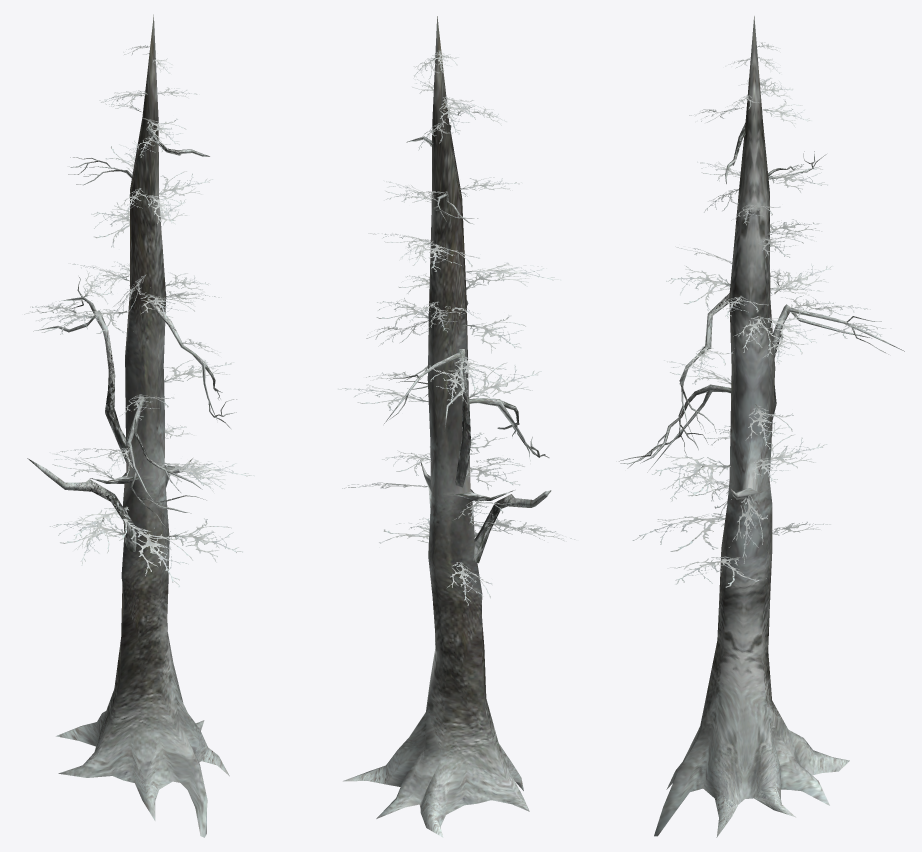
Rendered from S_Tree_White003.FBX.
3 renders of one model, left to right at view 1: azimuth 30°, elevation 25°; view 2: azimuth 150°, elevation 25°; view 3: azimuth 270°, elevation 25°, orthographic. The views are drawn at different scales.
Visible parts, largest first — view 1: S_Tree_White003; view 2: S_Tree_White003; view 3: S_Tree_White003.
Part boxes in pixels (x1,y1,x2,y2): S_Tree_White003: (24,14,254,837); S_Tree_White003: (338,16,575,837); S_Tree_White003: (619,16,904,837).
Bounding box in the file's own units: 585 × 583 × 1813.
